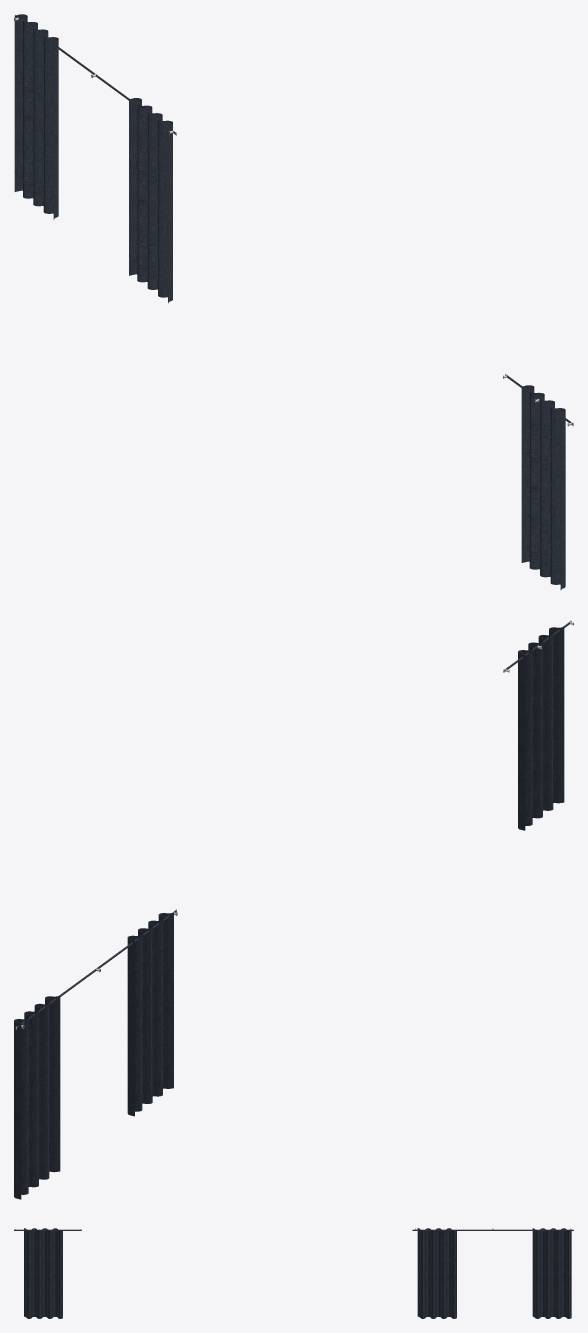
Rendered from 6k_blue_curtains3.fbx.
The picture shows the model from 3 angles, top to bottom: view 1: azimuth 30°, elevation 25°; view 2: azimuth 150°, elevation 25°; view 3: azimuth 270°, elevation 25°; orthographic projection. The views are drawn at different scales.
Parts seen in each view (by area): view 1: Curtain__1_3, Curtain__1_1, Curtain__1_2; view 2: Curtain__1_1, Curtain__1_3, Curtain__1_2; view 3: Curtain__1_1, Curtain__1_2, Curtain__1_3, Group2.
Boxes of the visible parts, x1,y1,x2,y2 form: Curtain__1_3: (521,385,565,590); Curtain__1_1: (14,14,58,219); Curtain__1_2: (129,98,172,303); Curtain__1_1: (14,996,60,1199); Curtain__1_3: (518,627,564,830); Curtain__1_2: (127,912,173,1116); Curtain__1_1: (532,1228,571,1318); Curtain__1_2: (417,1228,456,1318); Curtain__1_3: (24,1228,62,1318); Group2: (412,1228,573,1230).
Size of the model in its own units: 4.31 by 68.7 by 394.
